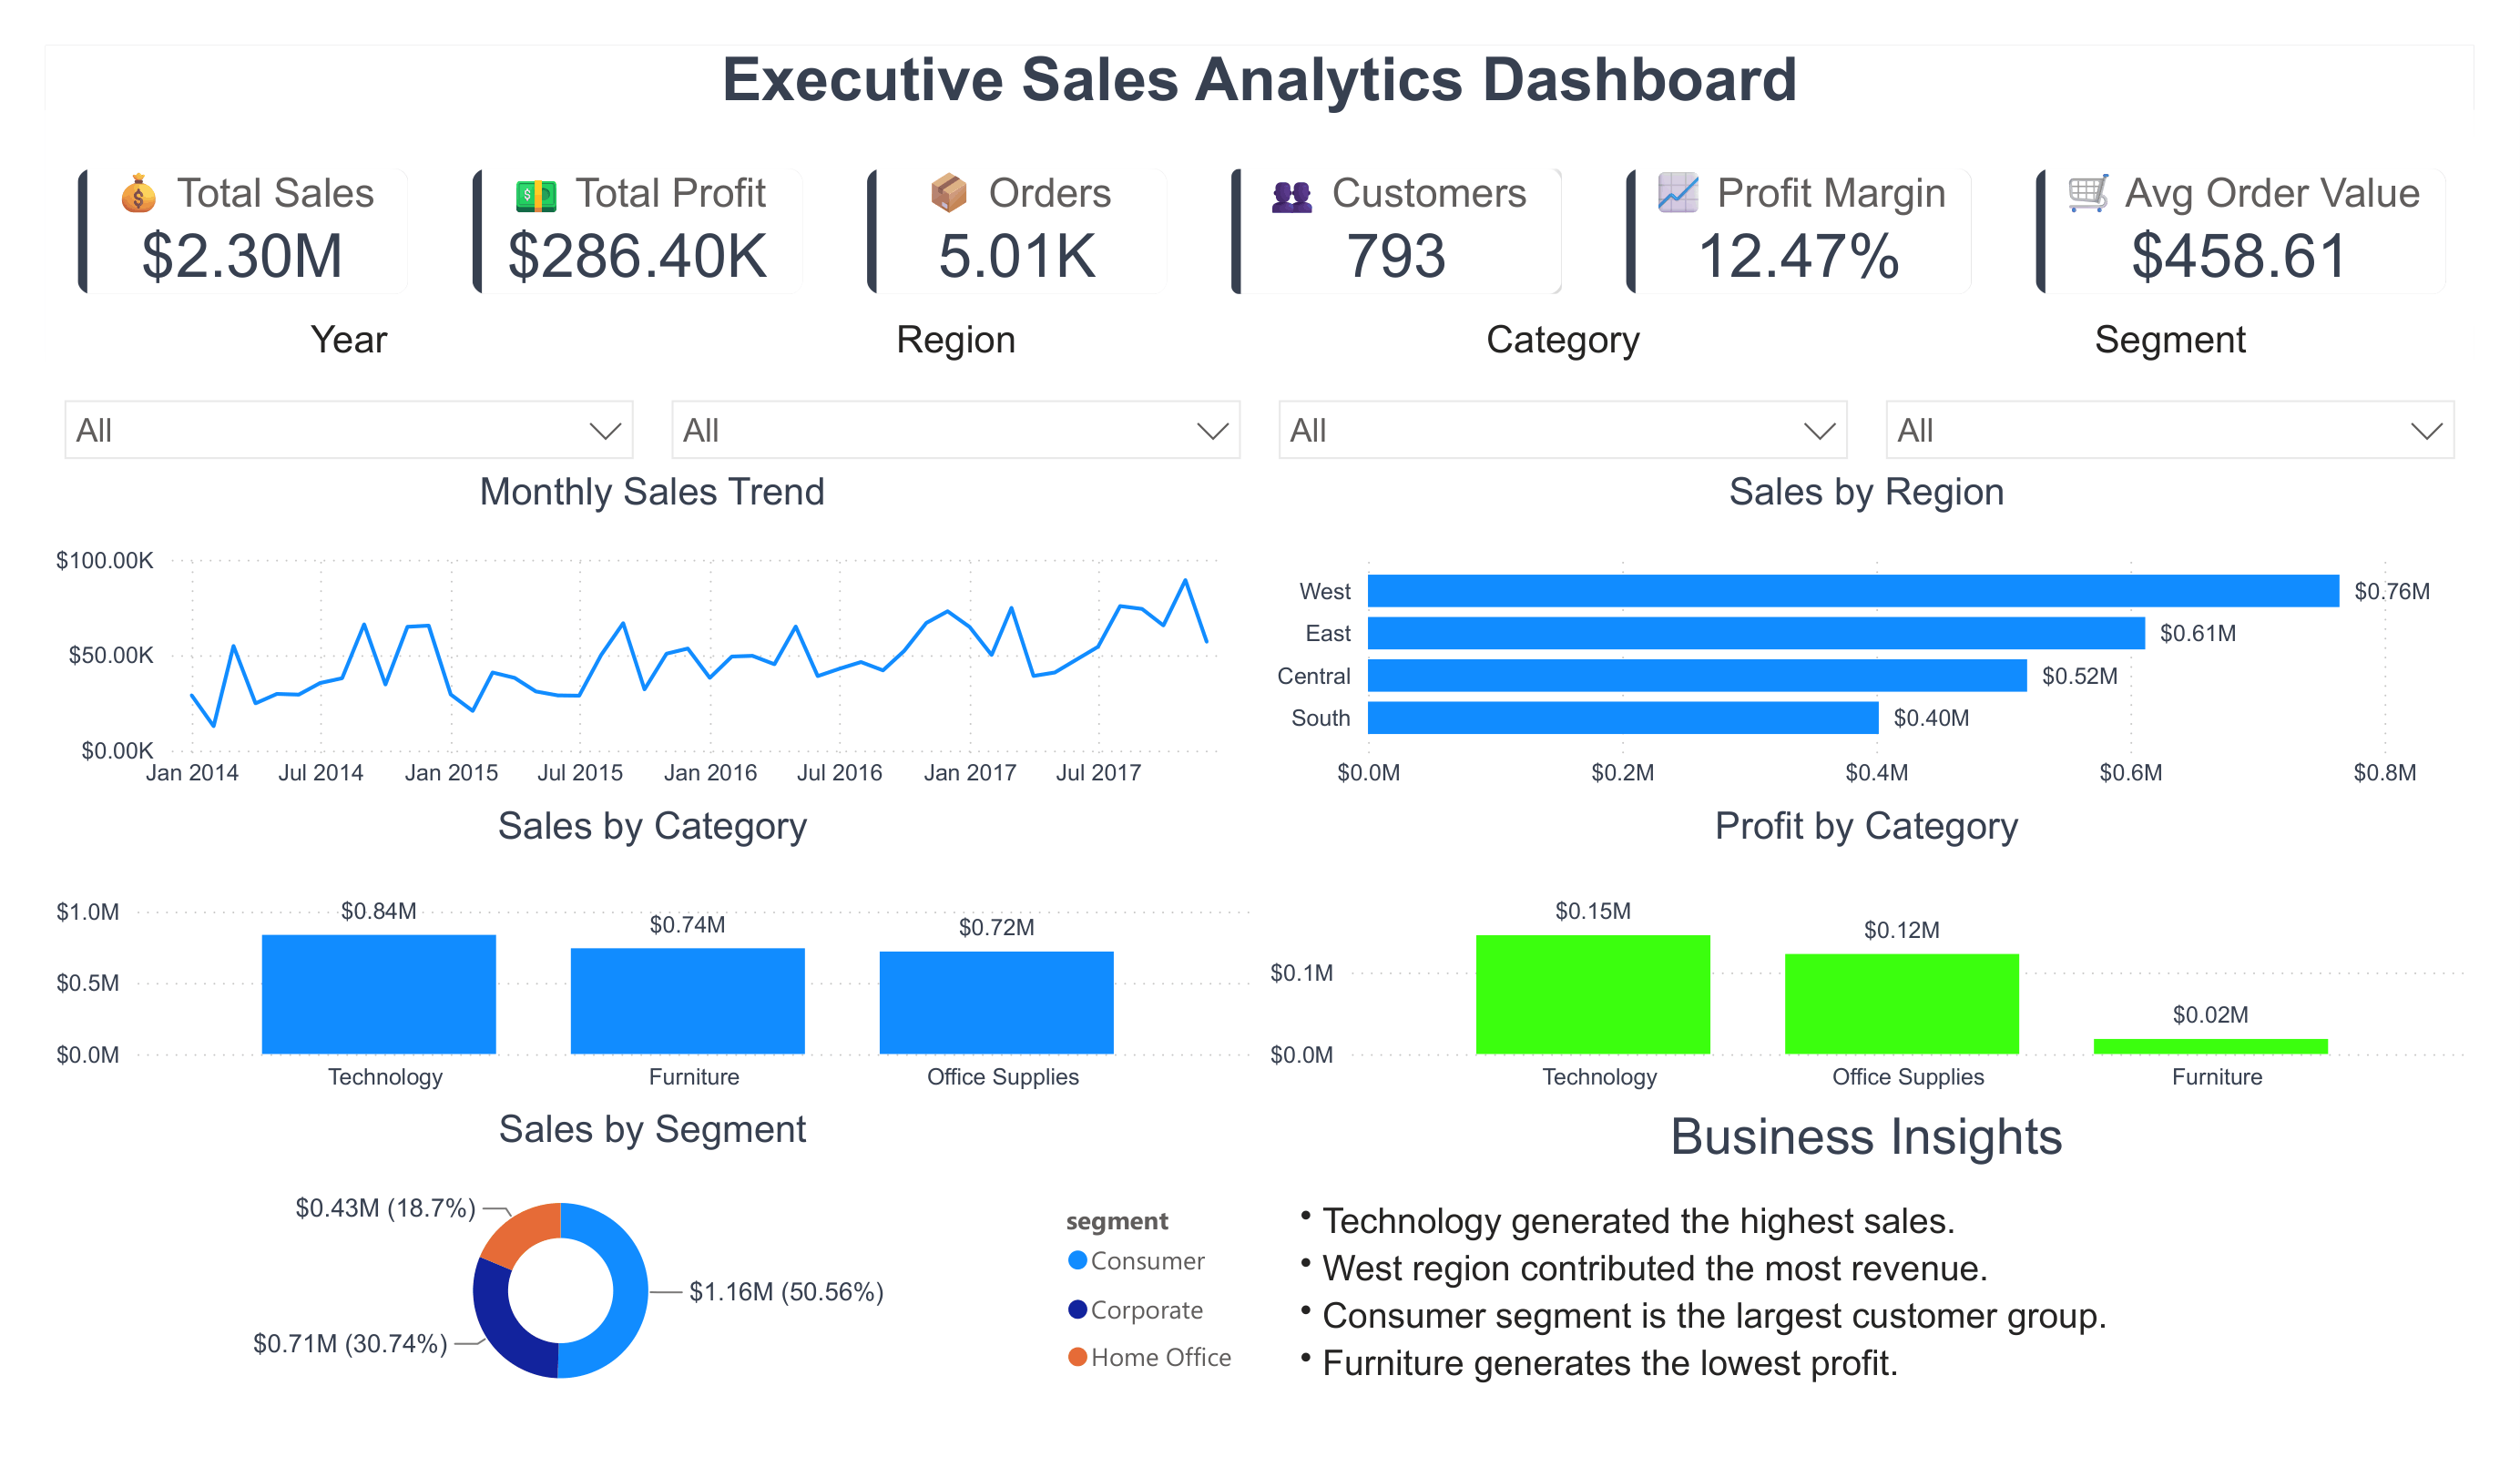

The page's visual inventory and layout, read from the dashboard file:
{"tool":"powerbi","page":{"name":"Executive Sales Analytics Dashboard","canvas":[1280,720],"ordinal":0},"visuals":[{"type":"textbox","title":"Executive Sales Analytics Dashboard","box":[0,0,1280,48],"z":0},{"type":"cardVisual","title":"💰 Total Sales","fields":{"Data":["Measures (4).Total Sales"]},"box":[0,48,208,100],"z":1000},{"type":"cardVisual","title":"💵 Total Profit","fields":{"Data":["Measures (4).Total Profit"]},"box":[208,48,208,100],"z":2000},{"type":"cardVisual","title":"📦 Orders","fields":{"Data":["Measures (4).Total Orders"]},"box":[416,48,192,100],"z":3000},{"type":"cardVisual","title":"👥 Customers","fields":{"Data":["Measures (4).Total Customers"]},"box":[608,48,208,100],"z":4000},{"type":"cardVisual","title":"📈 Profit Margin","fields":{"Data":["Measures (4).Profit Margin %"]},"box":[816,48,216,100],"z":5000},{"type":"cardVisual","title":"🛒 Avg Order Value","fields":{"Data":["Measures (4).Average Order Value"]},"box":[1032,48,250,100],"z":6000},{"type":"lineChart","title":"Monthly Sales Trend","fields":{"Y":["Measures (4).Total Sales"],"Category":["Dim_Date.Month Year Date"]},"box":[0,224,640,176],"z":7000},{"type":"columnChart","title":"Sales by Category","fields":{"Category":["Dim_Product.category"],"Y":["Measures (4).Total Sales"]},"box":[0,400,640,160],"z":8000},{"type":"clusteredBarChart","title":"Sales by Region","fields":{"Y":["Measures (4).Total Sales"],"Category":["Dim_Customer.region"]},"box":[640,224,640,176],"z":9000},{"type":"columnChart","title":"Profit by Category","fields":{"Category":["Dim_Product.category"],"Y":["Measures (4).Total Profit"]},"box":[640,400,640,160],"z":10000},{"type":"donutChart","title":"Sales by Segment","fields":{"Category":["Dim_Customer.segment"],"Y":["Measures (4).Total Sales"]},"box":[0,560,640,160],"z":11000},{"type":"slicer","title":"Year","fields":{"Values":["Dim_Date.Year"]},"box":[0,144,320,80],"z":12000},{"type":"slicer","title":"Region","fields":{"Values":["Dim_Customer.region"]},"box":[320,144,320,80],"z":13000},{"type":"slicer","title":"Category","fields":{"Values":["Dim_Product.category"]},"box":[640,144,320,80],"z":14000},{"type":"slicer","title":"Segment","fields":{"Values":["Dim_Customer.segment"]},"box":[960,144,320,80],"z":15000},{"type":"textbox","title":"Business Insights","box":[640,560,640,160],"z":16000}]}

Visuals, with their boxes on the page's 1280x720 design canvas (x1, y1, x2, y2). These are canvas units, not pixel positions in the 2520x1457 screenshot, which may show the page scaled, cropped or inside an application window:
"Executive Sales Analytics Dashboard" textbox: [0, 0, 1280, 48]
"💰 Total Sales" cardVisual: [0, 48, 208, 148]
"💵 Total Profit" cardVisual: [208, 48, 416, 148]
"📦 Orders" cardVisual: [416, 48, 608, 148]
"👥 Customers" cardVisual: [608, 48, 816, 148]
"📈 Profit Margin" cardVisual: [816, 48, 1032, 148]
"🛒 Avg Order Value" cardVisual: [1032, 48, 1282, 148]
"Monthly Sales Trend" lineChart: [0, 224, 640, 400]
"Sales by Category" columnChart: [0, 400, 640, 560]
"Sales by Region" clusteredBarChart: [640, 224, 1280, 400]
"Profit by Category" columnChart: [640, 400, 1280, 560]
"Sales by Segment" donutChart: [0, 560, 640, 720]
"Year" slicer: [0, 144, 320, 224]
"Region" slicer: [320, 144, 640, 224]
"Category" slicer: [640, 144, 960, 224]
"Segment" slicer: [960, 144, 1280, 224]
"Business Insights" textbox: [640, 560, 1280, 720]
